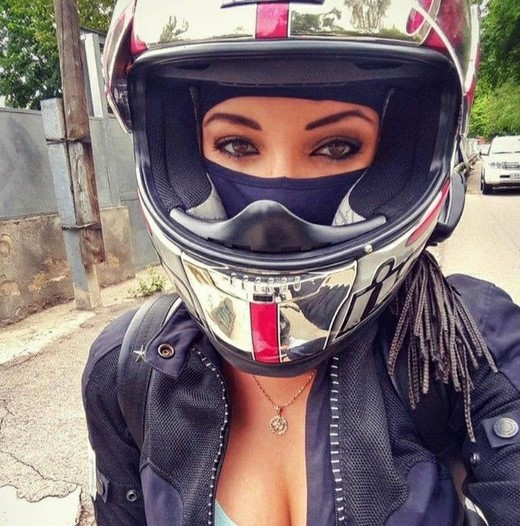face_with_mask: (102, 4, 476, 376)
